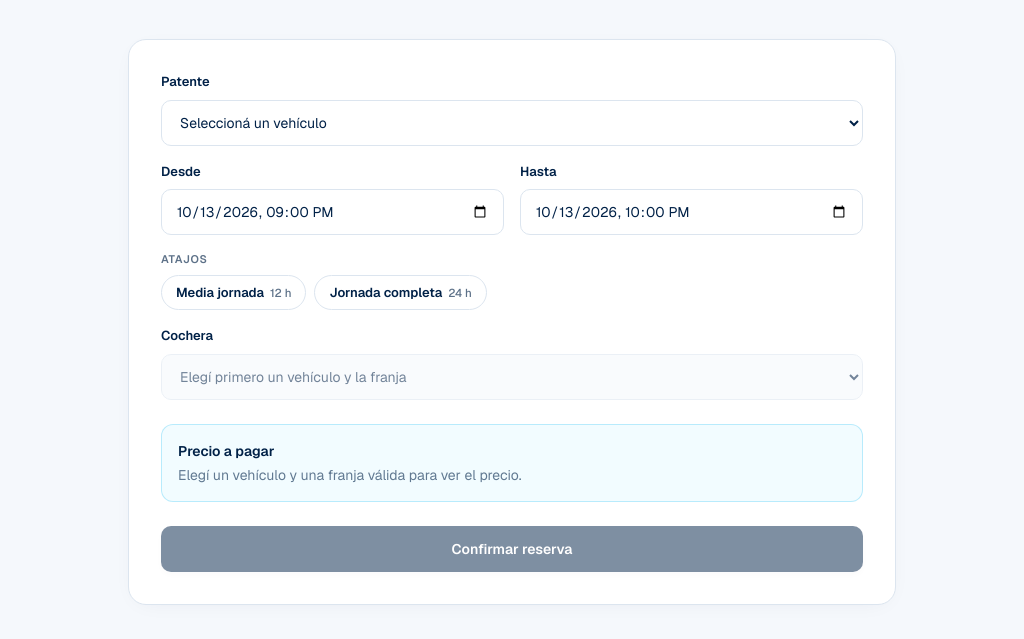
Test: Lista de espera › invalida el consentimiento cuando cambia la franja
The image size is (1024, 639).
Select "ABC123 — AUTO" in the dropdown labelled "Patente": coordinates (512, 122) 161,100 -> 863,146
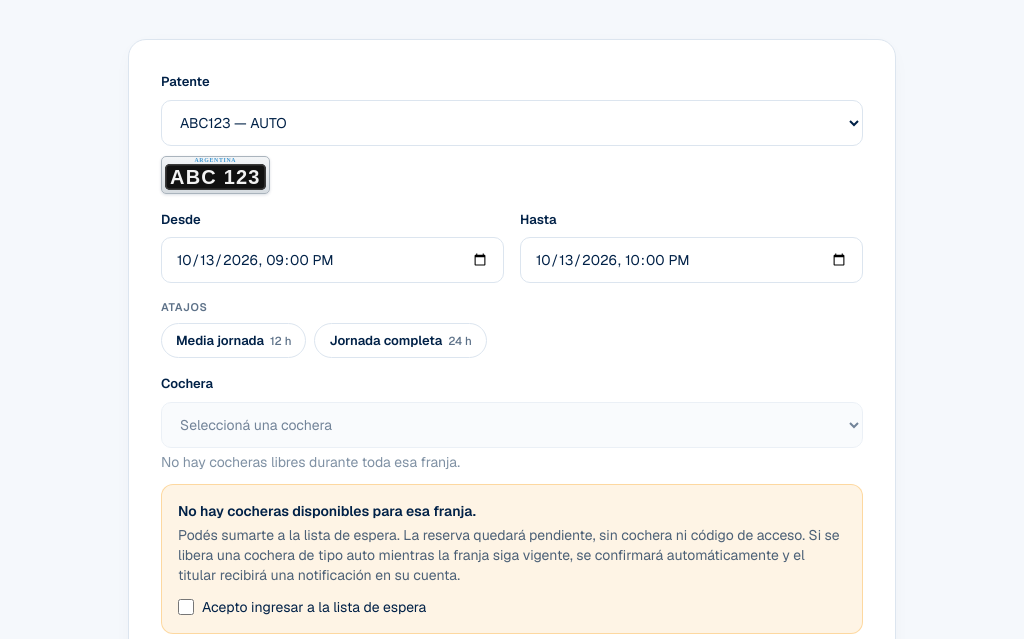
Click the checkbox labelled "Acepto ingresar a la lista de espera": coordinates (186, 607) 178,599 -> 194,615
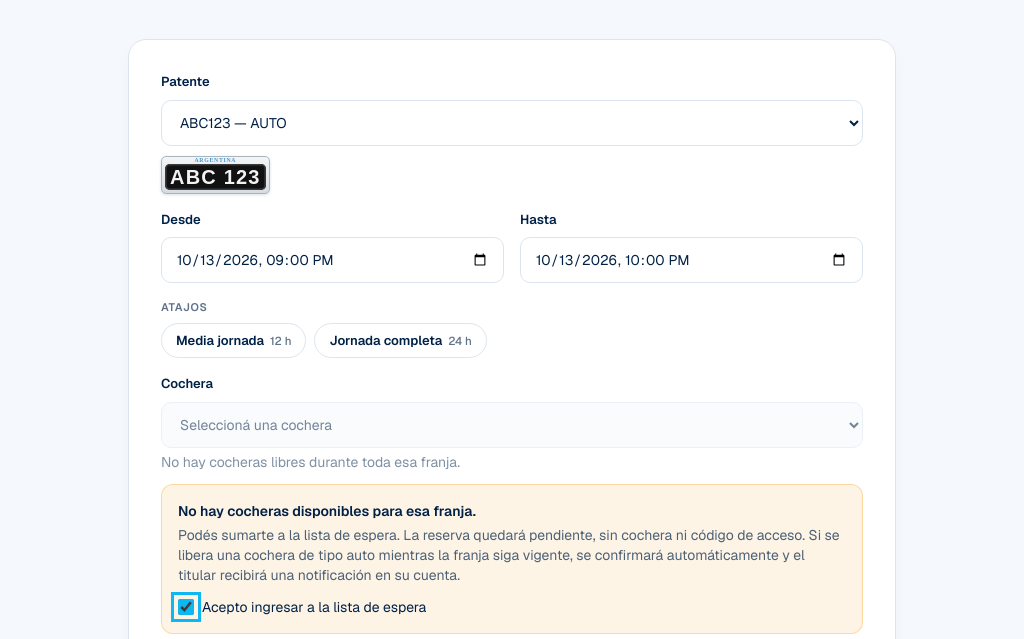
Replace the text in the field labelled "Hasta" with "2099-01-01T12:00": coordinates (692, 260) 520,237 -> 863,283
(page scrolled)
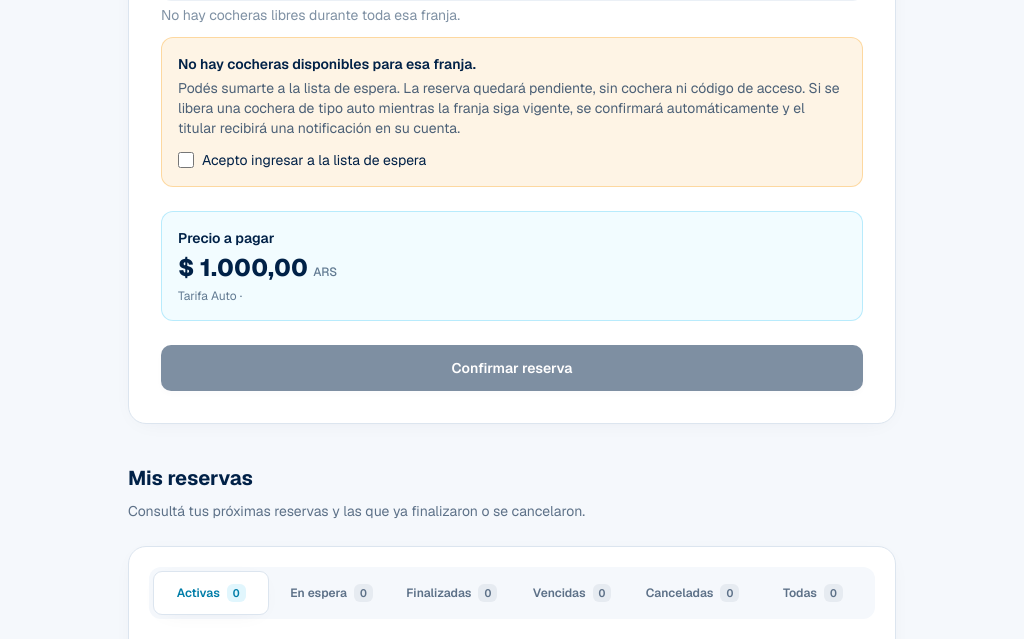
Result: the checkbox labelled "Acepto ingresar a la lista de espera" is not checked at 178,152 -> 194,168
Result: the button "Confirmar reserva" is disabled at 161,345 -> 863,391
